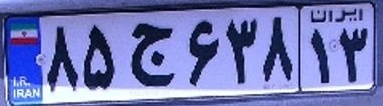character: (124, 17, 179, 93), (180, 15, 221, 94), (259, 10, 296, 91), (40, 22, 80, 94), (81, 20, 117, 94), (224, 13, 259, 89), (336, 23, 371, 87), (306, 25, 335, 85)
